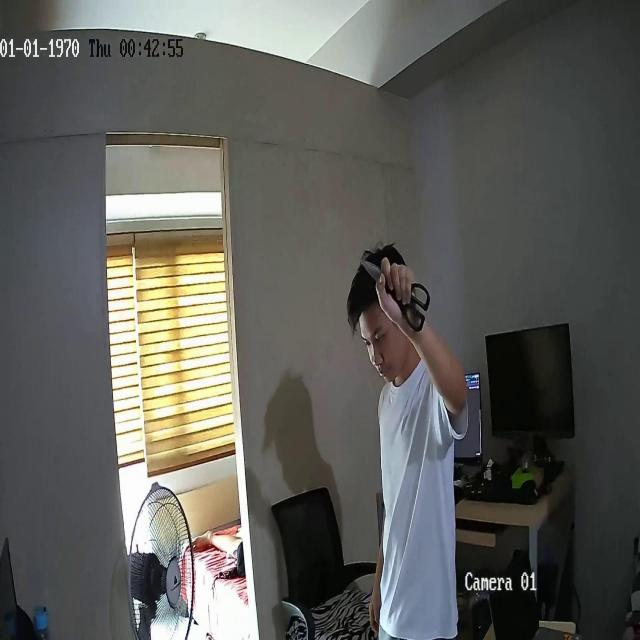scissor: (361, 259, 430, 331)
